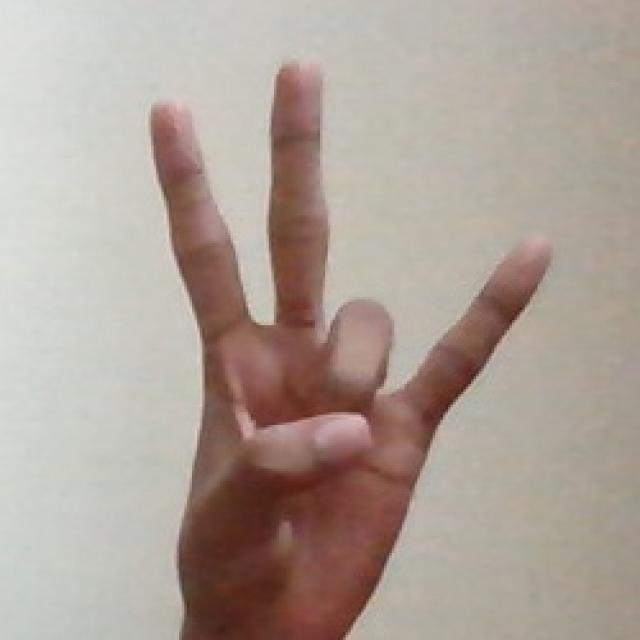Numeric-7: (131, 49, 556, 594)
